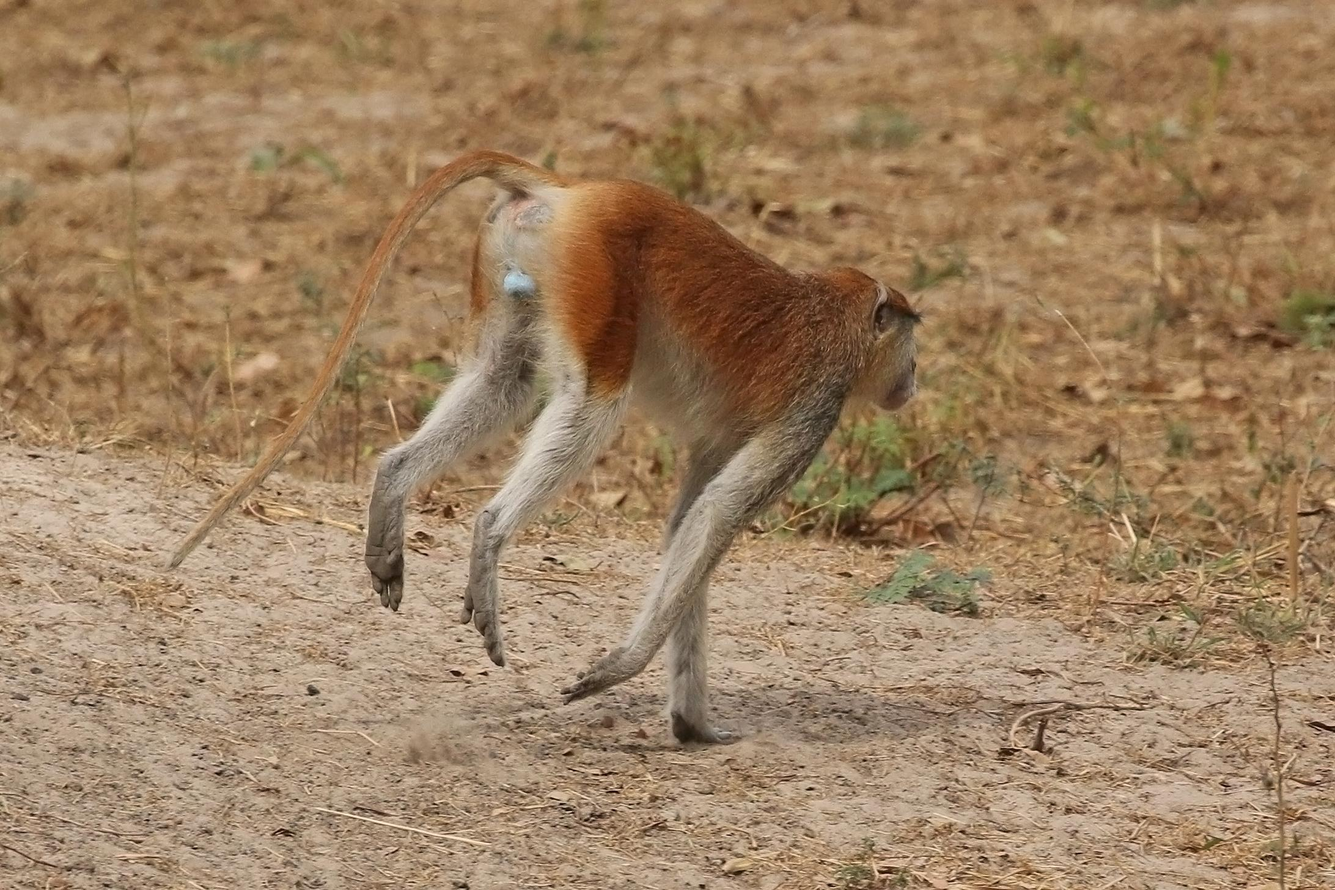monkey: (365, 153, 923, 749)
